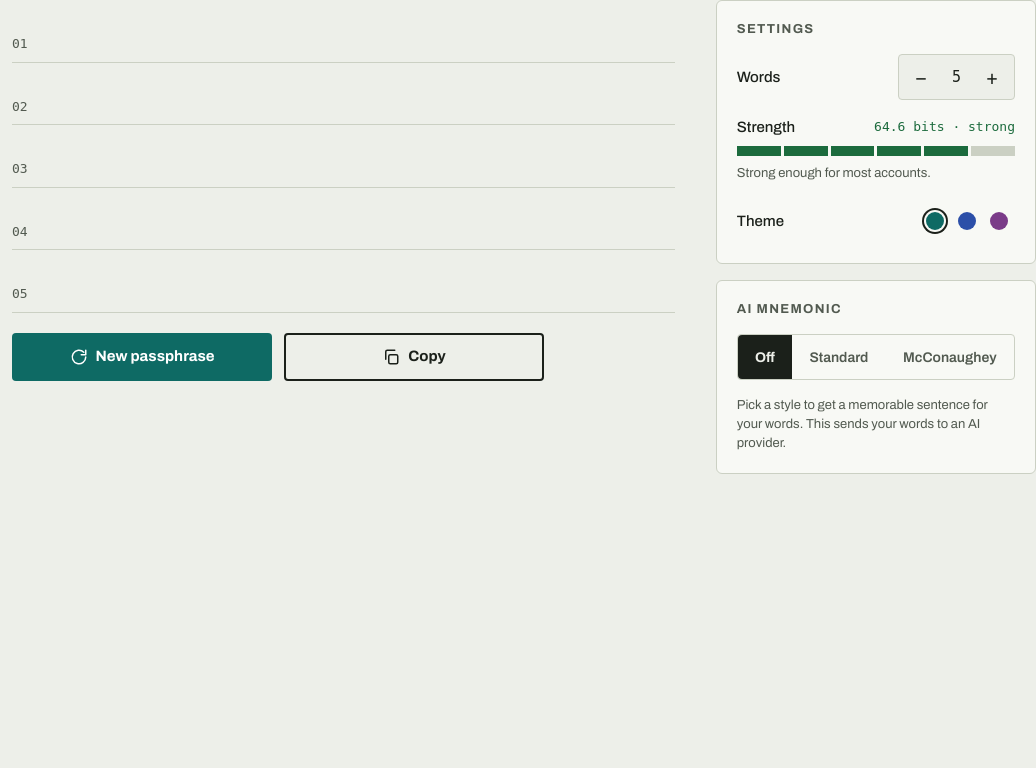
Test: PassphraseGenerator › drops a pending request when switched off
The width and height of the screenshot is (1036, 768).
Click the 4th radio button labelled "Standard" at (839, 357), box [809,350,868,365]
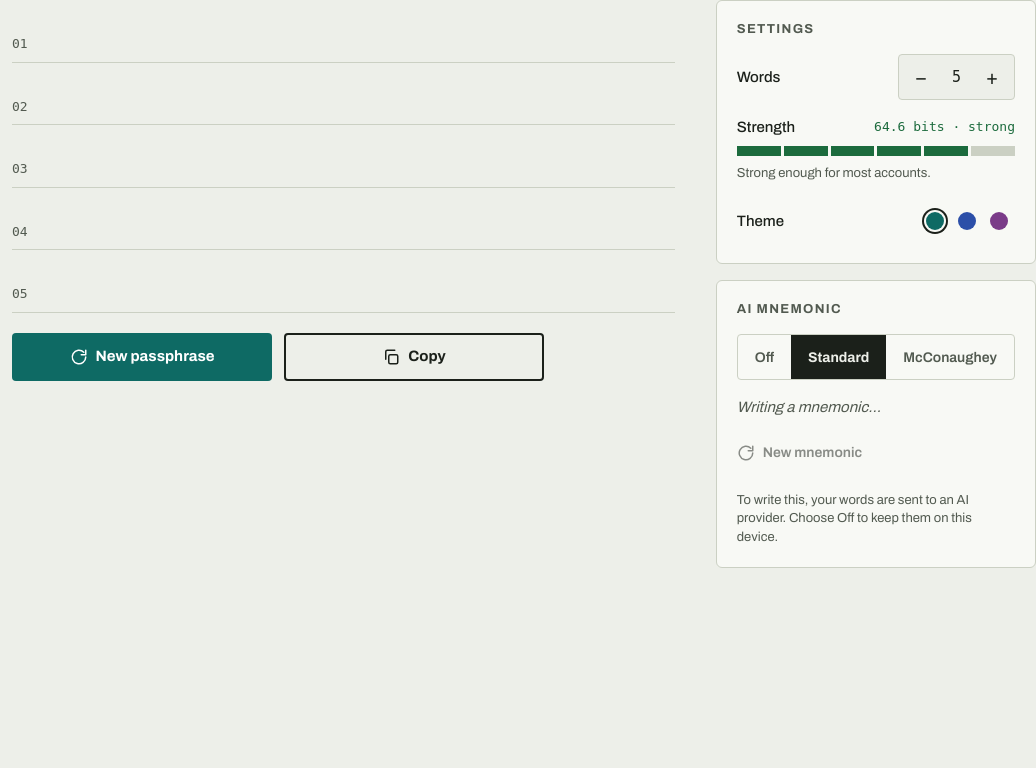
Click the button "New passphrase" at (142, 357), box [12,333,272,381]
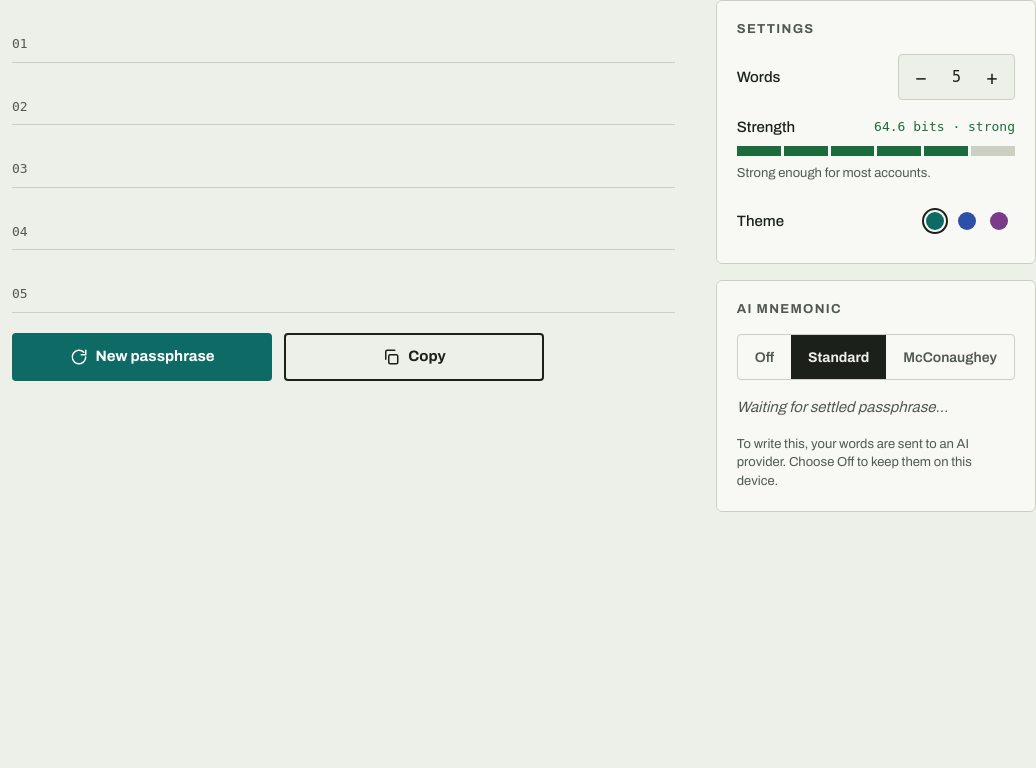
Click the 4th radio button labelled "Off" at (764, 357), box [755,350,774,365]
Wait 2000 ms
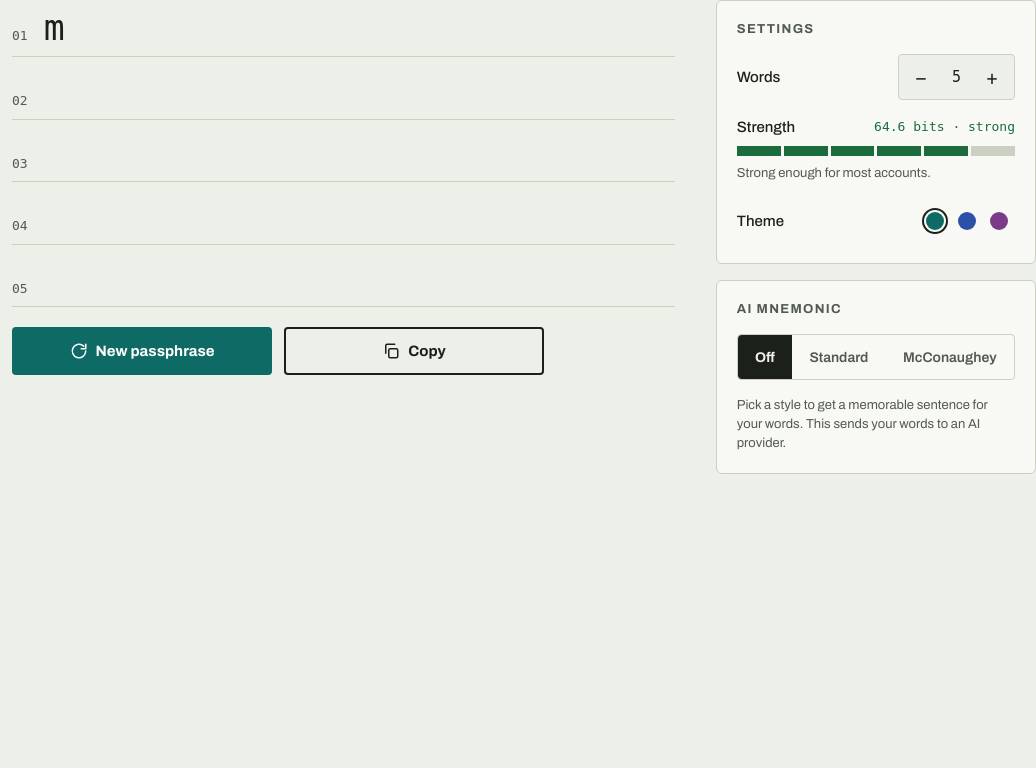
Expected: the text "Waiting for settled" is gone
